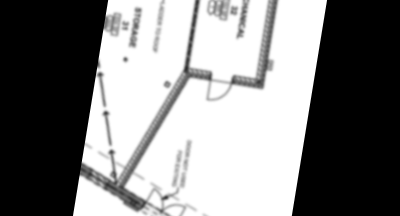door: (145, 186, 190, 216), (206, 78, 234, 106)
double door: (254, 0, 282, 86)
wall: (110, 59, 186, 197), (230, 73, 261, 86), (185, 65, 215, 78)
